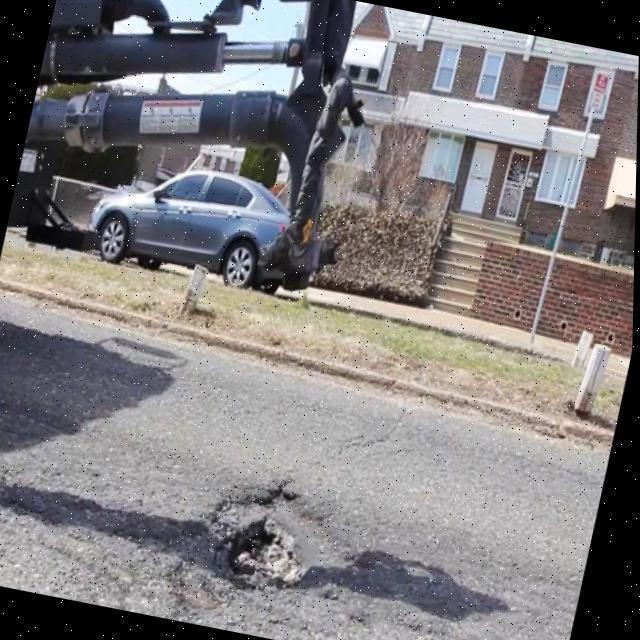Pothole: (176, 489, 363, 618)
